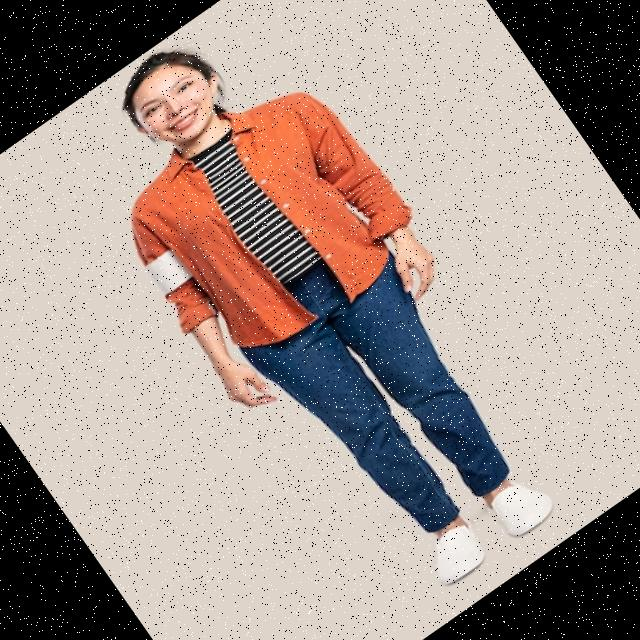Person: (43, 0, 599, 626)
